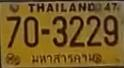0: (23, 16, 38, 46)
2: (86, 14, 100, 46), (69, 15, 83, 46)
3: (52, 15, 66, 46)
7: (6, 15, 20, 47)
9: (103, 14, 118, 45)
MKM: (31, 51, 96, 65)
